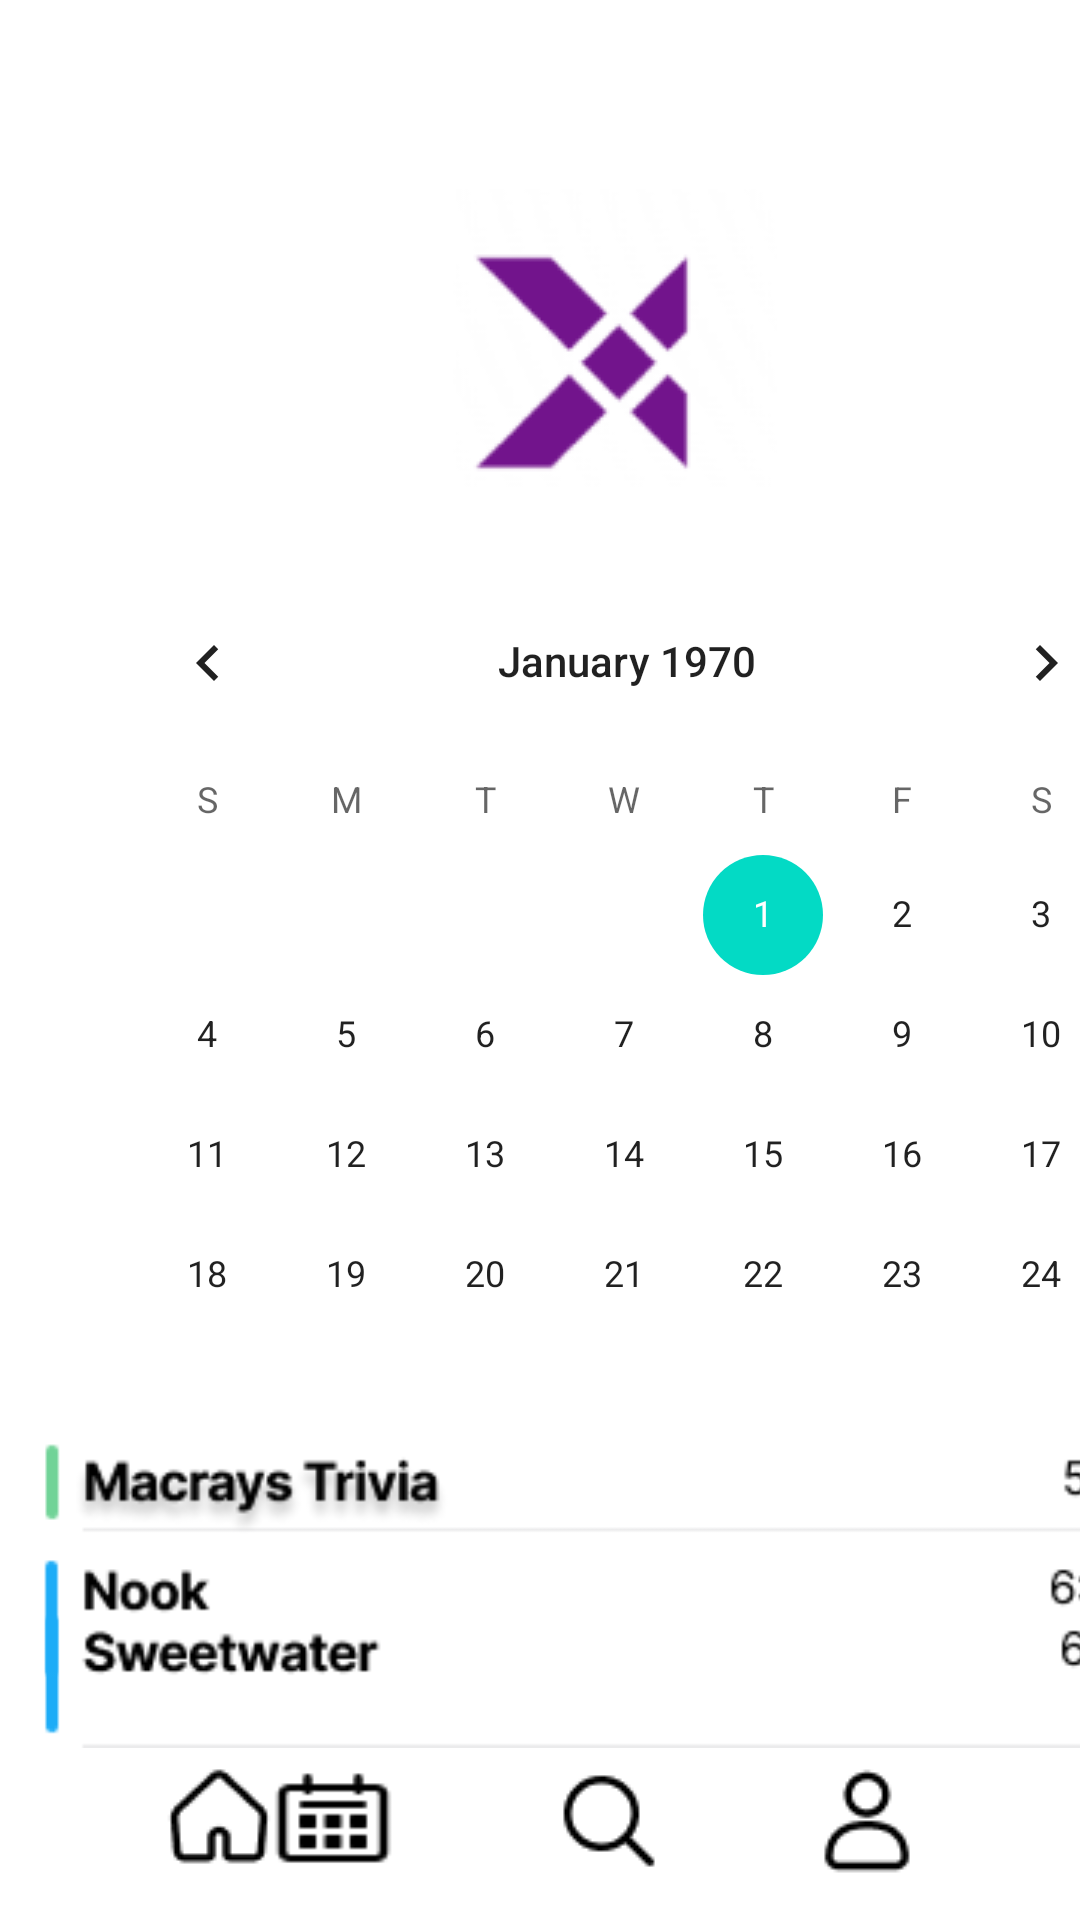

Screen size 1080x1920. Icon name, then its center in pixels as point (x, y):
calendar: point (333, 1818)
home: point (219, 1816)
search: point (609, 1821)
